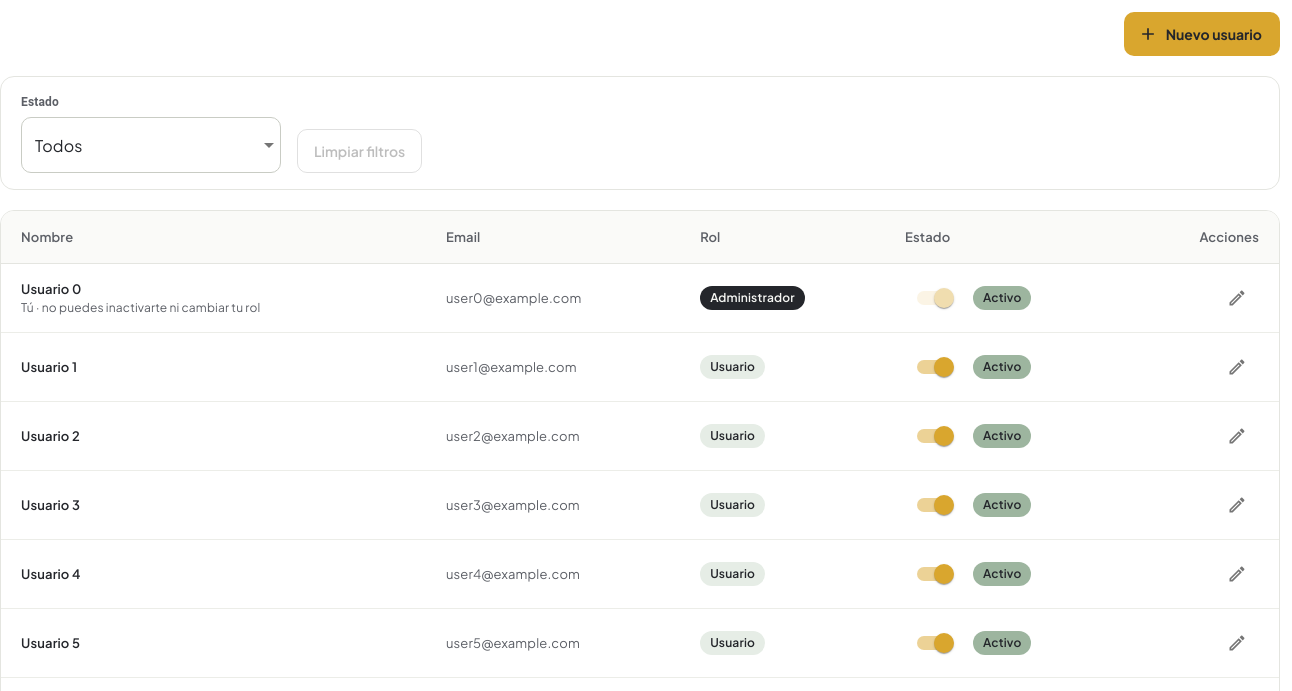
Test: UsersPage › tells apart an empty filter result from an empty list
Step 1. Select "Inactivos" in the dropdown labelled "Estado" → [151, 145], box [21,117,281,173]
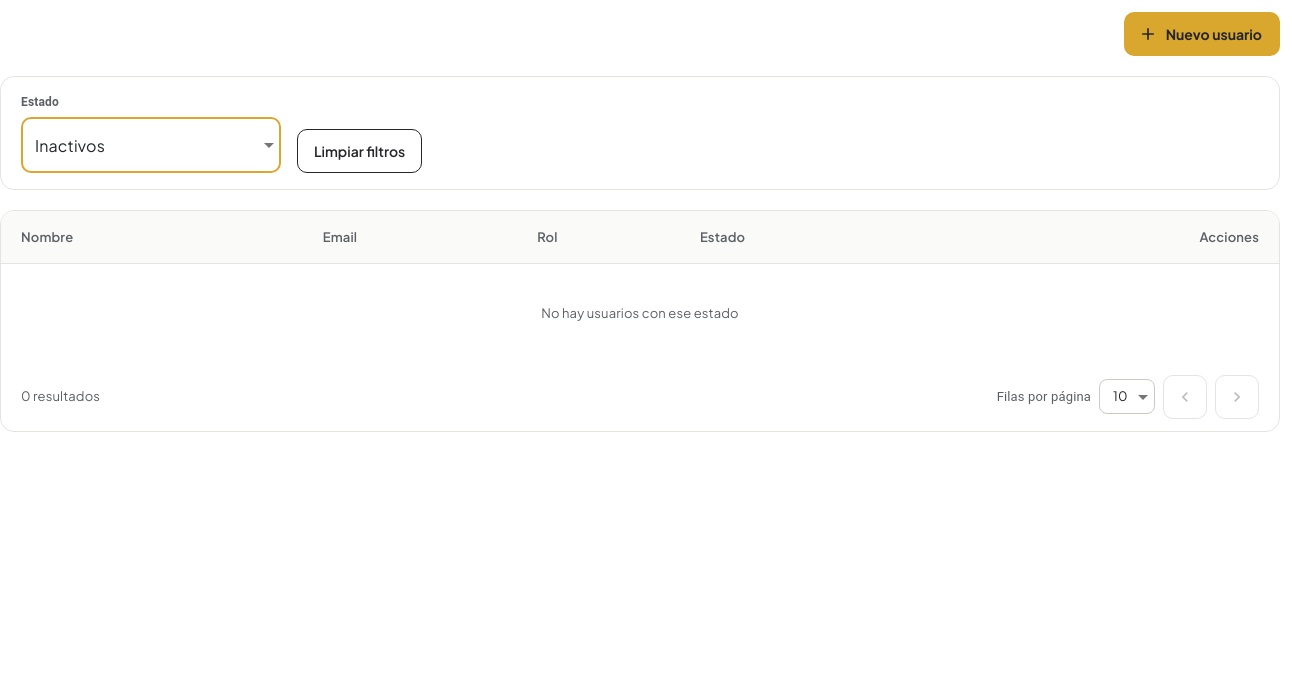
Expected: the text "No hay usuarios con ese estado" is shown, [1,264,1279,363]
